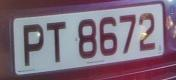2: (136, 9, 158, 57)
6: (97, 11, 122, 63)
7: (118, 11, 140, 59)
8: (75, 13, 100, 65)
P: (19, 19, 47, 72)
T: (44, 17, 71, 68)
